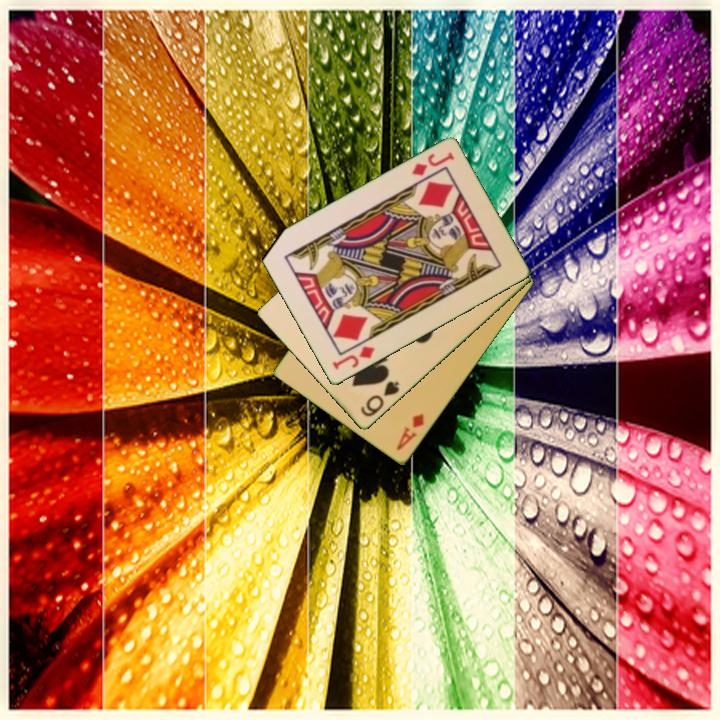6s: (357, 378, 402, 420)
Ad: (393, 410, 427, 454)
Jd: (328, 343, 378, 373), (408, 149, 457, 179)
